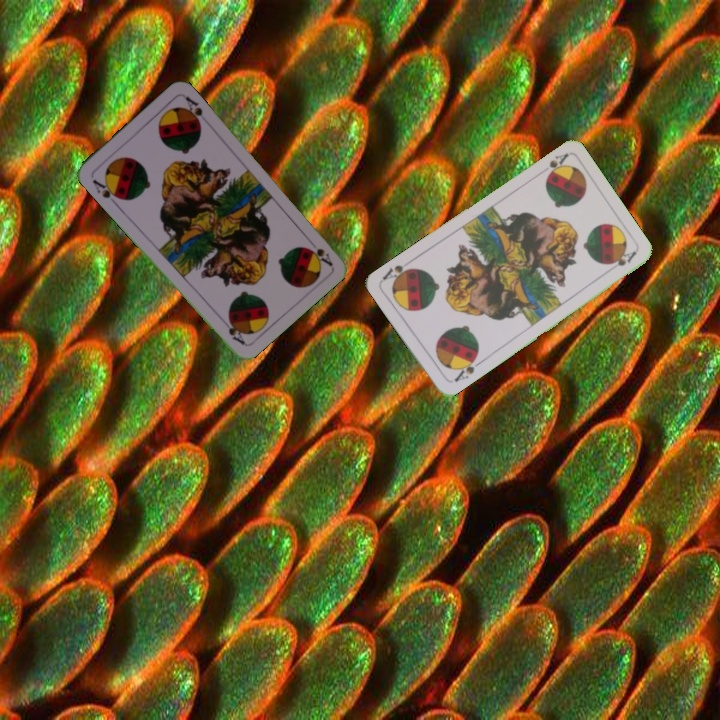SA: (88, 175, 124, 207), (450, 352, 484, 384), (542, 149, 571, 180), (304, 243, 335, 268)
